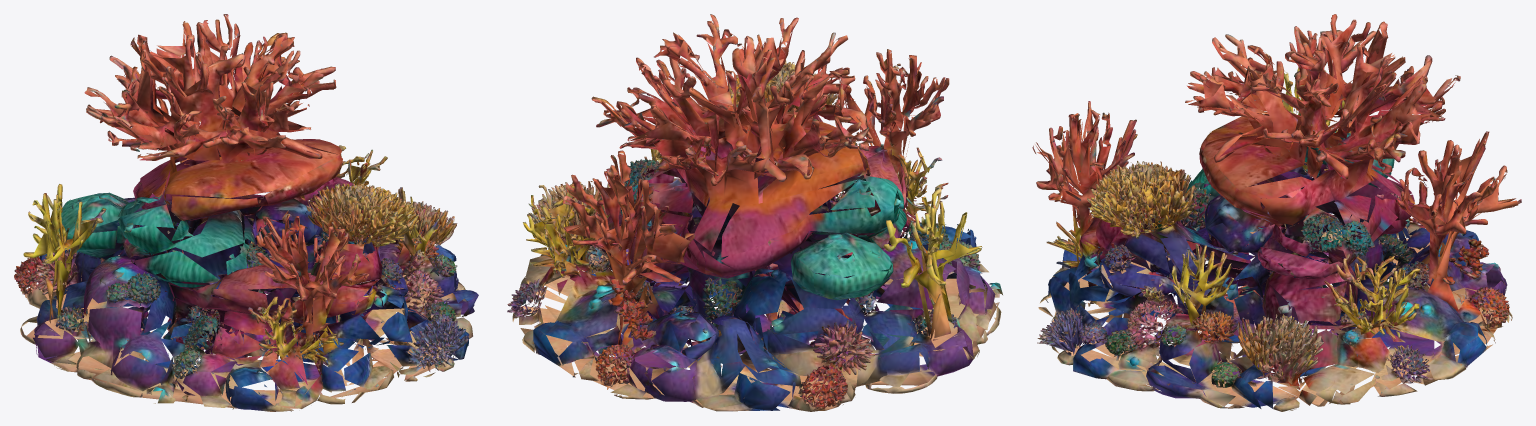
File: coral_chromaflare.glb
3 renders of one model, left to right at view 1: azimuth 30°, elevation 25°; view 2: azimuth 150°, elevation 25°; view 3: azimuth 270°, elevation 25°, orthographic. The views are drawn at different scales.
Parts seen in each view (by area): view 1: Object_7, Object_6, Object_4, Object_8, Object_5, Object_12, Object_26, Object_28, Object_27, Object_20, Object_29, Object_24 (+15 smaller); view 2: Object_7, Object_4, Object_5, Object_8, Object_6, Object_24, Object_26, Object_22, Object_25, Object_27, Object_28, Object_23 (+9 smaller); view 3: Object_7, Object_4, Object_5, Object_6, Object_8, Object_19, Object_21, Object_28, Object_20, Object_30, Object_11, Object_12 (+15 smaller).
Boxes of the visible parts, x1,y1,x2,y2 form: Object_7: (33,22,472,397); Object_6: (23,22,474,391); Object_4: (22,40,462,409); Object_8: (45,28,467,411); Object_5: (19,14,464,391); Object_12: (17,77,478,407); Object_26: (73,37,210,397); Object_28: (222,14,293,409); Object_27: (196,19,269,396); Object_20: (264,65,348,404); Object_29: (262,32,307,407); Object_24: (39,34,160,403); Object_7: (520,30,973,397); Object_4: (517,45,996,411); Object_5: (525,41,991,400); Object_8: (520,38,976,397); Object_6: (516,38,985,373); Object_24: (609,74,1000,411); Object_26: (593,57,1001,407); Object_22: (594,69,978,373); Object_25: (749,201,982,411); Object_27: (559,32,938,377); Object_28: (538,34,976,357); Object_23: (595,74,1002,389); Object_7: (1044,47,1517,406); Object_4: (1048,30,1507,408); Object_5: (1044,36,1495,406); Object_6: (1051,27,1489,407); Object_8: (1035,21,1506,387); Object_19: (1038,164,1417,396); Object_21: (1036,40,1495,378); Object_28: (1087,37,1486,343); Object_20: (1032,125,1424,383); Object_30: (1046,71,1433,380); Object_11: (1046,147,1429,384); Object_12: (1050,27,1508,408).
Size of the model in its own units: 1.93 by 1.16 by 1.95.
Materials: 1 (1 with a texture image).
